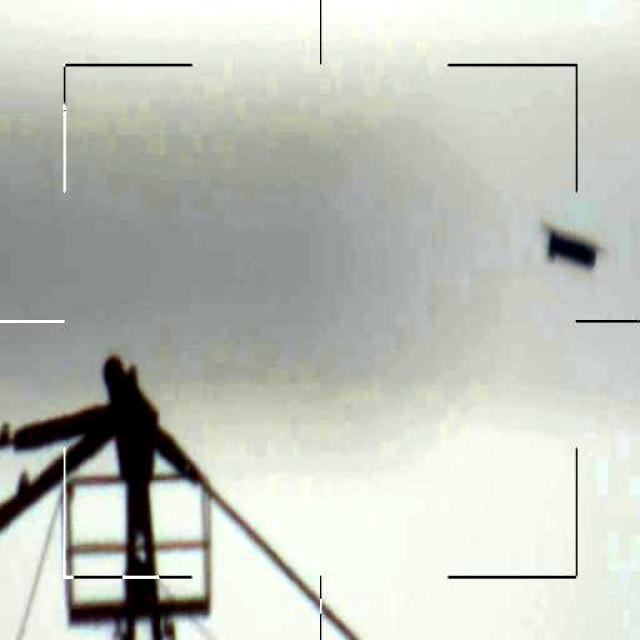bird: (536, 219, 605, 275)
